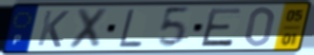0: (242, 6, 277, 49)
5: (155, 5, 195, 51)
E: (198, 6, 245, 48)
K: (35, 9, 72, 49)
L: (117, 7, 144, 48)
X: (65, 7, 111, 50)
